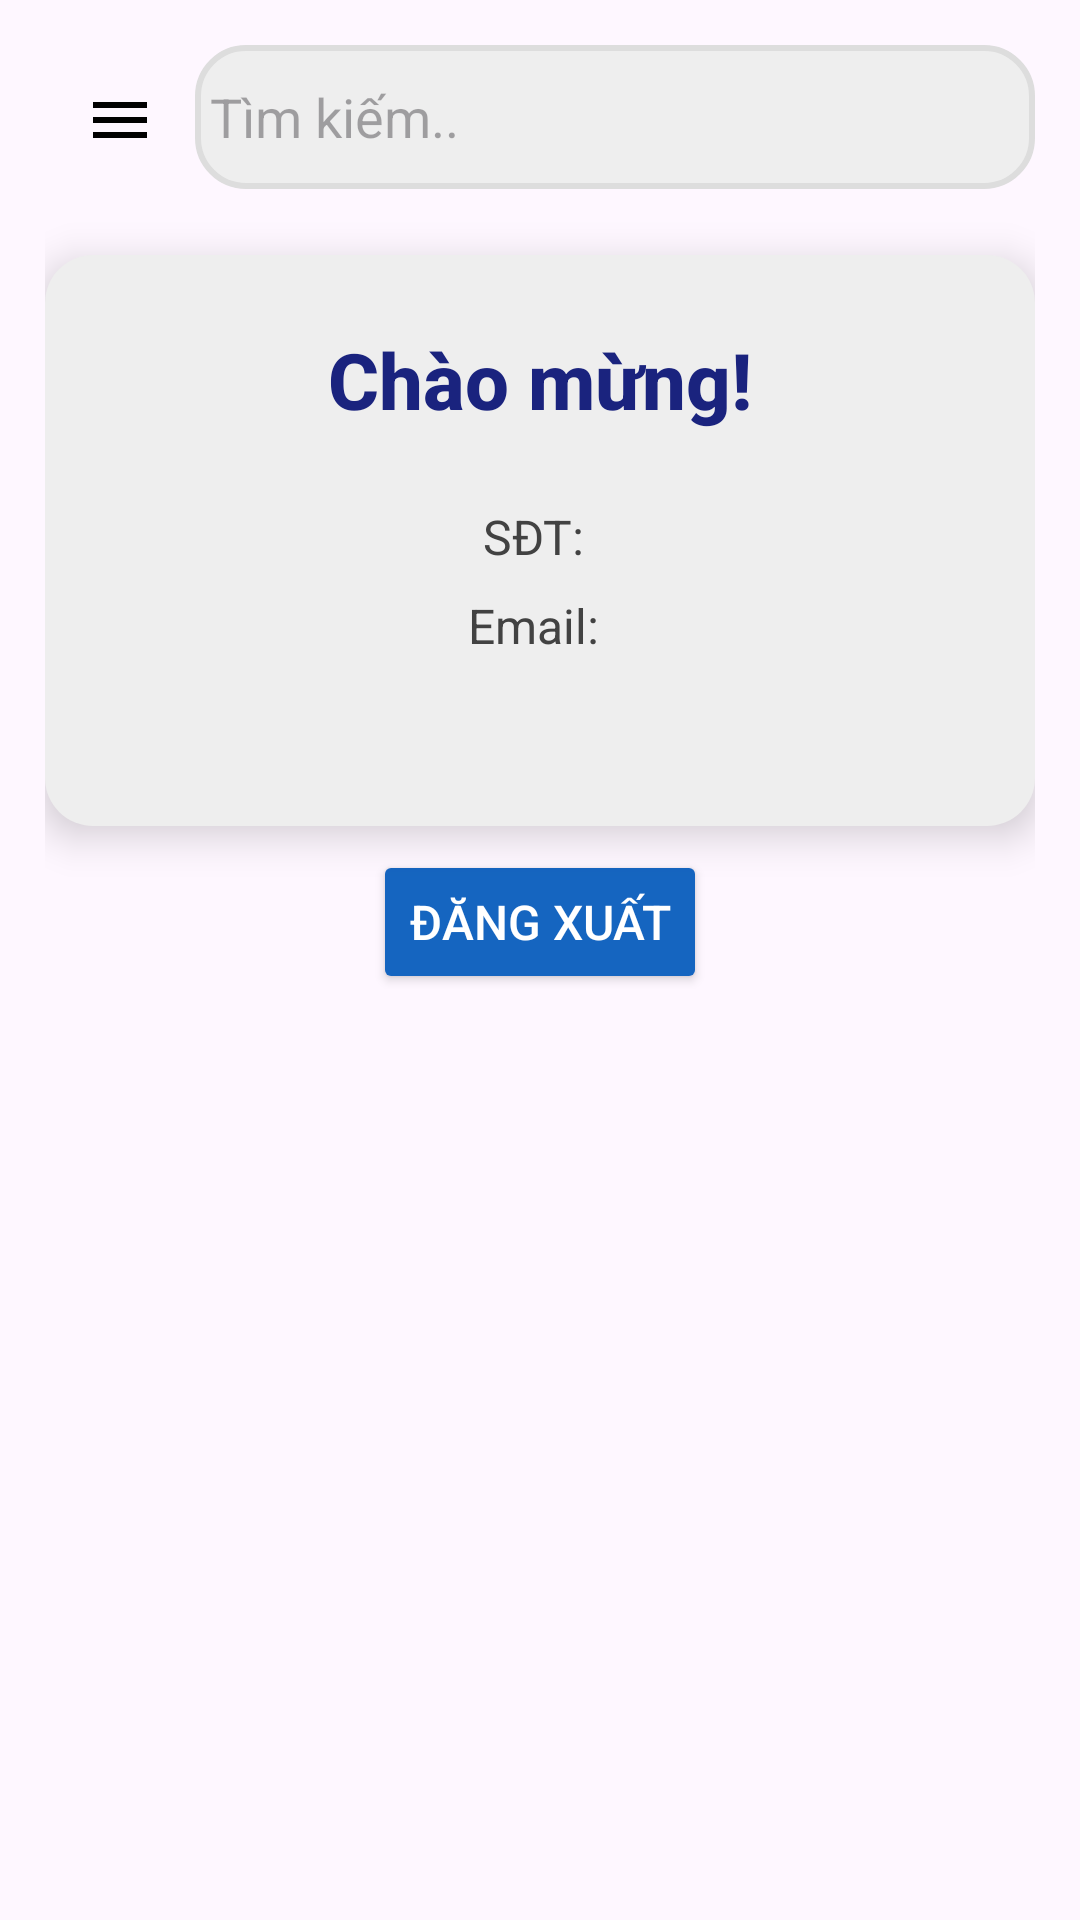

Locate icon controls on the screen. Image size 1080*1920, boxes as (x1, y1, x2, y2).
nút icon menu: (93, 102, 147, 138)
